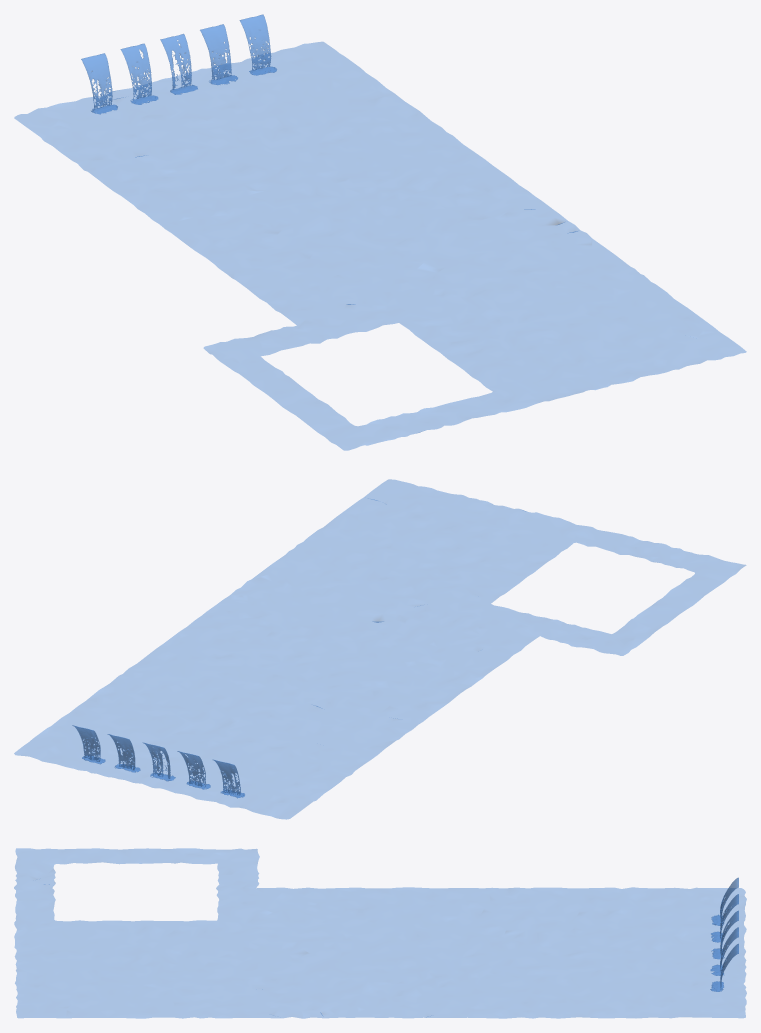
Rendered from pool_water.gltf.
3 views of the same model, one above another, from view 1: azimuth 30°, elevation 25°; view 2: azimuth 150°, elevation 25°; view 3: azimuth 270°, elevation 25° (orthographic). The views are drawn at different scales.
Parts seen in each view (by area): view 1: Line1789527490, ParticleMesh014; view 2: Line1789527490, ParticleMesh014; view 3: Line1789527490, ParticleMesh014.
Boxes of the visible parts, x1,y1,x2,y2 form: Line1789527490: [14, 42, 746, 450]; ParticleMesh014: [81, 14, 276, 114]; Line1789527490: [14, 479, 745, 819]; ParticleMesh014: [72, 725, 244, 798]; Line1789527490: [14, 848, 746, 1018]; ParticleMesh014: [710, 877, 738, 991].
Bounding box in the file's own units: 3.88 × 0.423 × 7.1.
